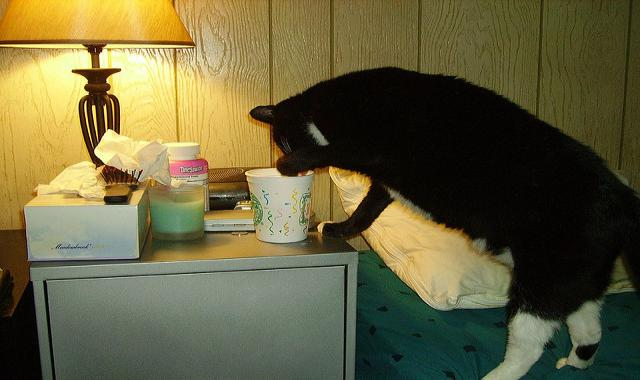cat: (260, 32, 640, 375)
